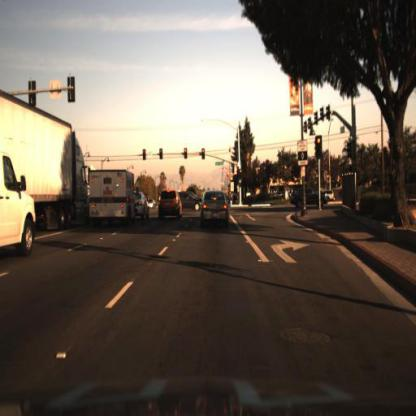car: (1, 148, 37, 259), (85, 164, 138, 230), (198, 185, 235, 233), (286, 180, 326, 212), (155, 179, 183, 224), (177, 191, 204, 209), (180, 191, 203, 211), (326, 182, 342, 205), (136, 191, 148, 220), (149, 194, 158, 213)
trafficLight-Red: (315, 133, 325, 149), (200, 142, 208, 157), (139, 145, 147, 159), (142, 148, 148, 163), (183, 146, 189, 158), (183, 148, 189, 160), (159, 146, 164, 158), (160, 148, 165, 160), (201, 149, 206, 161), (238, 165, 243, 177)
truck: (19, 115, 98, 235)
